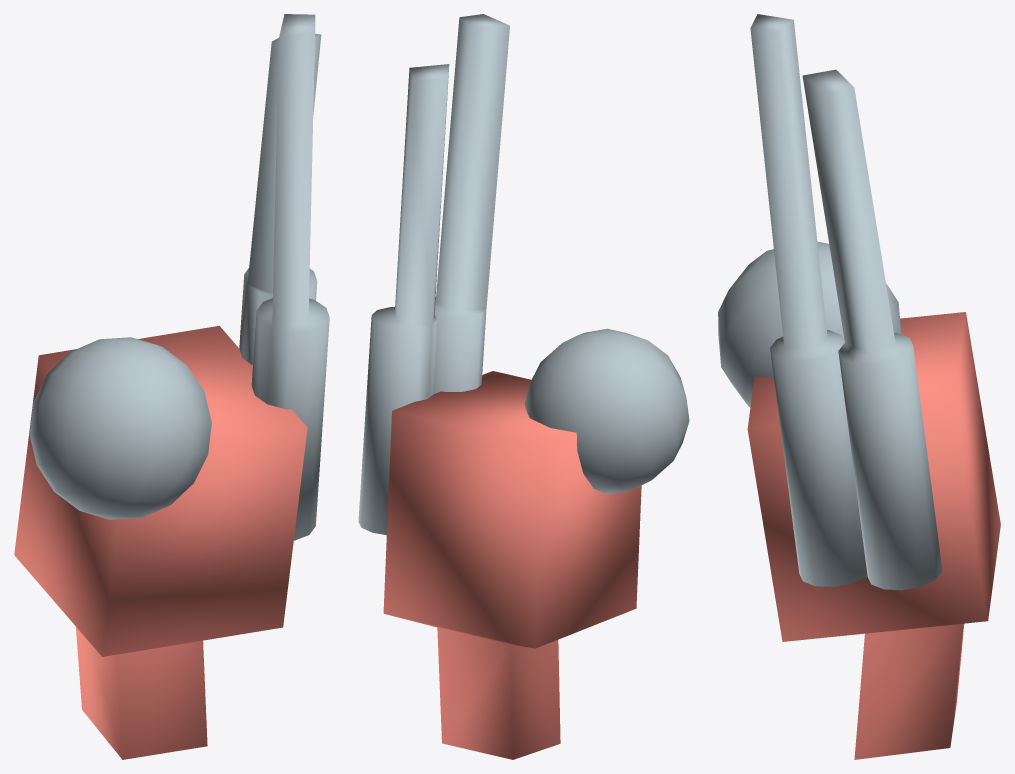
The model's file is shoulder_right.gltf.
The picture shows the model from 3 angles, left to right: view 1: azimuth 30°, elevation 25°; view 2: azimuth 150°, elevation 25°; view 3: azimuth 270°, elevation 25°; orthographic projection. The views are drawn at different scales.
Visible parts, largest first — view 1: group505031281; view 2: group505031281; view 3: group505031281.
Part boxes in pixels (left/top/right/bottom): group505031281: left=14, top=14, right=329, bottom=759; group505031281: left=358, top=14, right=689, bottom=759; group505031281: left=718, top=14, right=1000, bottom=759.
Bounding box in the file's own units: 0.1183 × 0.2772 × 0.093.
